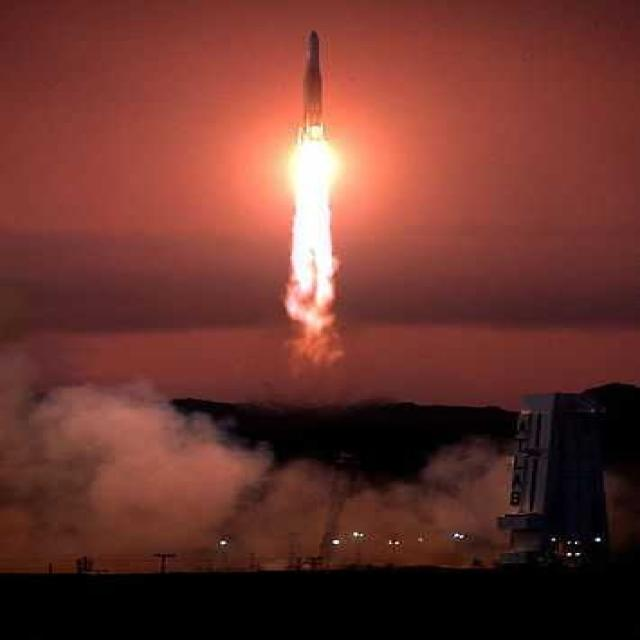missile: (296, 24, 326, 144)
